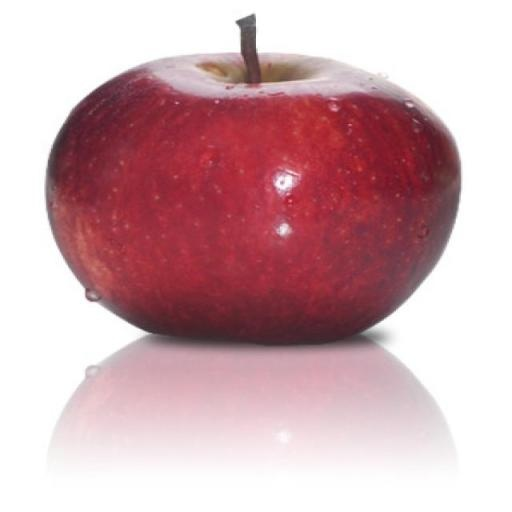fruit: (48, 54, 459, 343)
